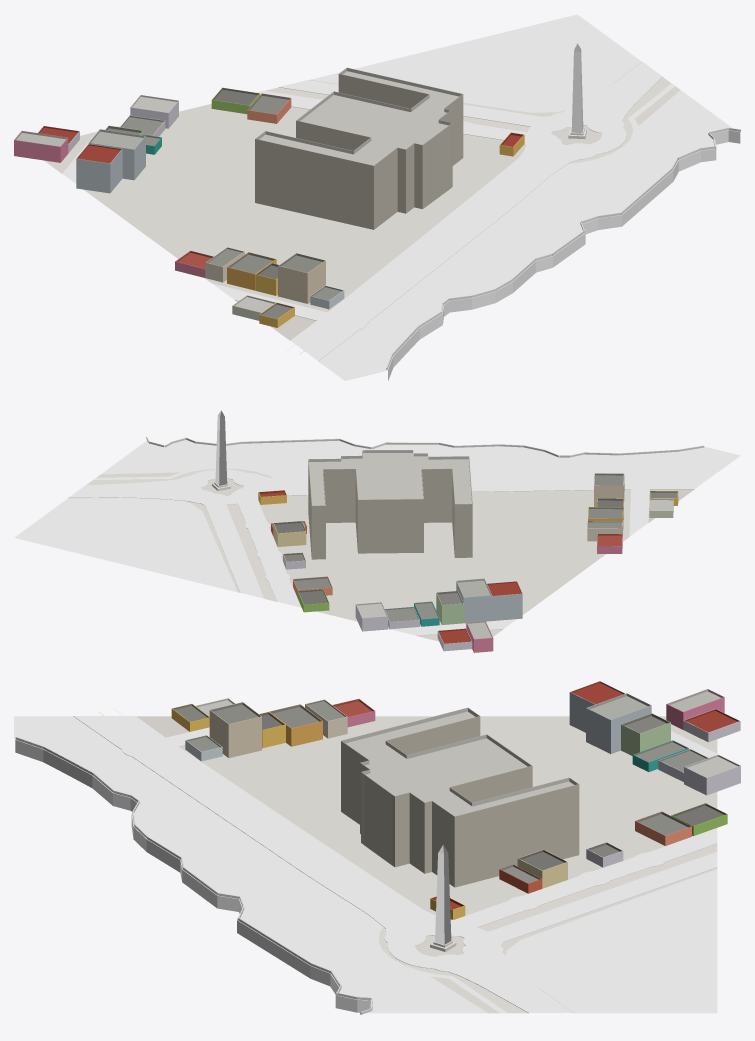
The picture shows the model from 3 angles, top to bottom: view 1: azimuth 30°, elevation 25°; view 2: azimuth 150°, elevation 25°; view 3: azimuth 270°, elevation 25°; orthographic projection. The views are drawn at different scales.
Visible parts, largest first — view 1: ground, walls, concrete, sidewalk, grass, roofs, coast, stone, mural; view 2: ground, walls, sidewalk, grass, roofs, concrete, stone, mural; view 3: ground, walls, sidewalk, concrete, grass, roofs, coast, stone, mural.
Part boxes in pixels (<box>): ground: <box>44,61,680,340</box>; walls: <box>14,74,524,327</box>; concrete: <box>318,83,736,380</box>; sidewalk: <box>62,62,662,360</box>; grass: <box>311,14,720,128</box>; roofs: <box>14,67,523,319</box>; coast: <box>388,130,740,380</box>; stone: <box>386,43,740,369</box>; mural: <box>571,50,583,132</box>; ground: <box>68,468,694,649</box>; walls: <box>258,452,678,652</box>; sidewalk: <box>68,469,717,635</box>; grass: <box>14,450,237,592</box>; roofs: <box>258,450,678,643</box>; concrete: <box>93,440,740,479</box>; stone: <box>146,410,704,490</box>; mural: <box>215,416,227,485</box>; ground: <box>136,716,717,1013</box>; walls: <box>171,692,740,919</box>; sidewalk: <box>73,716,717,1012</box>; concrete: <box>14,716,507,1013</box>; grass: <box>400,869,717,1013</box>; roofs: <box>172,681,740,909</box>; coast: <box>15,740,370,1012</box>; stone: <box>15,737,456,1014</box>; mural: <box>435,852,451,944</box>.
Size of what is drawn, in the model's own units: 259 by 45 by 258.
